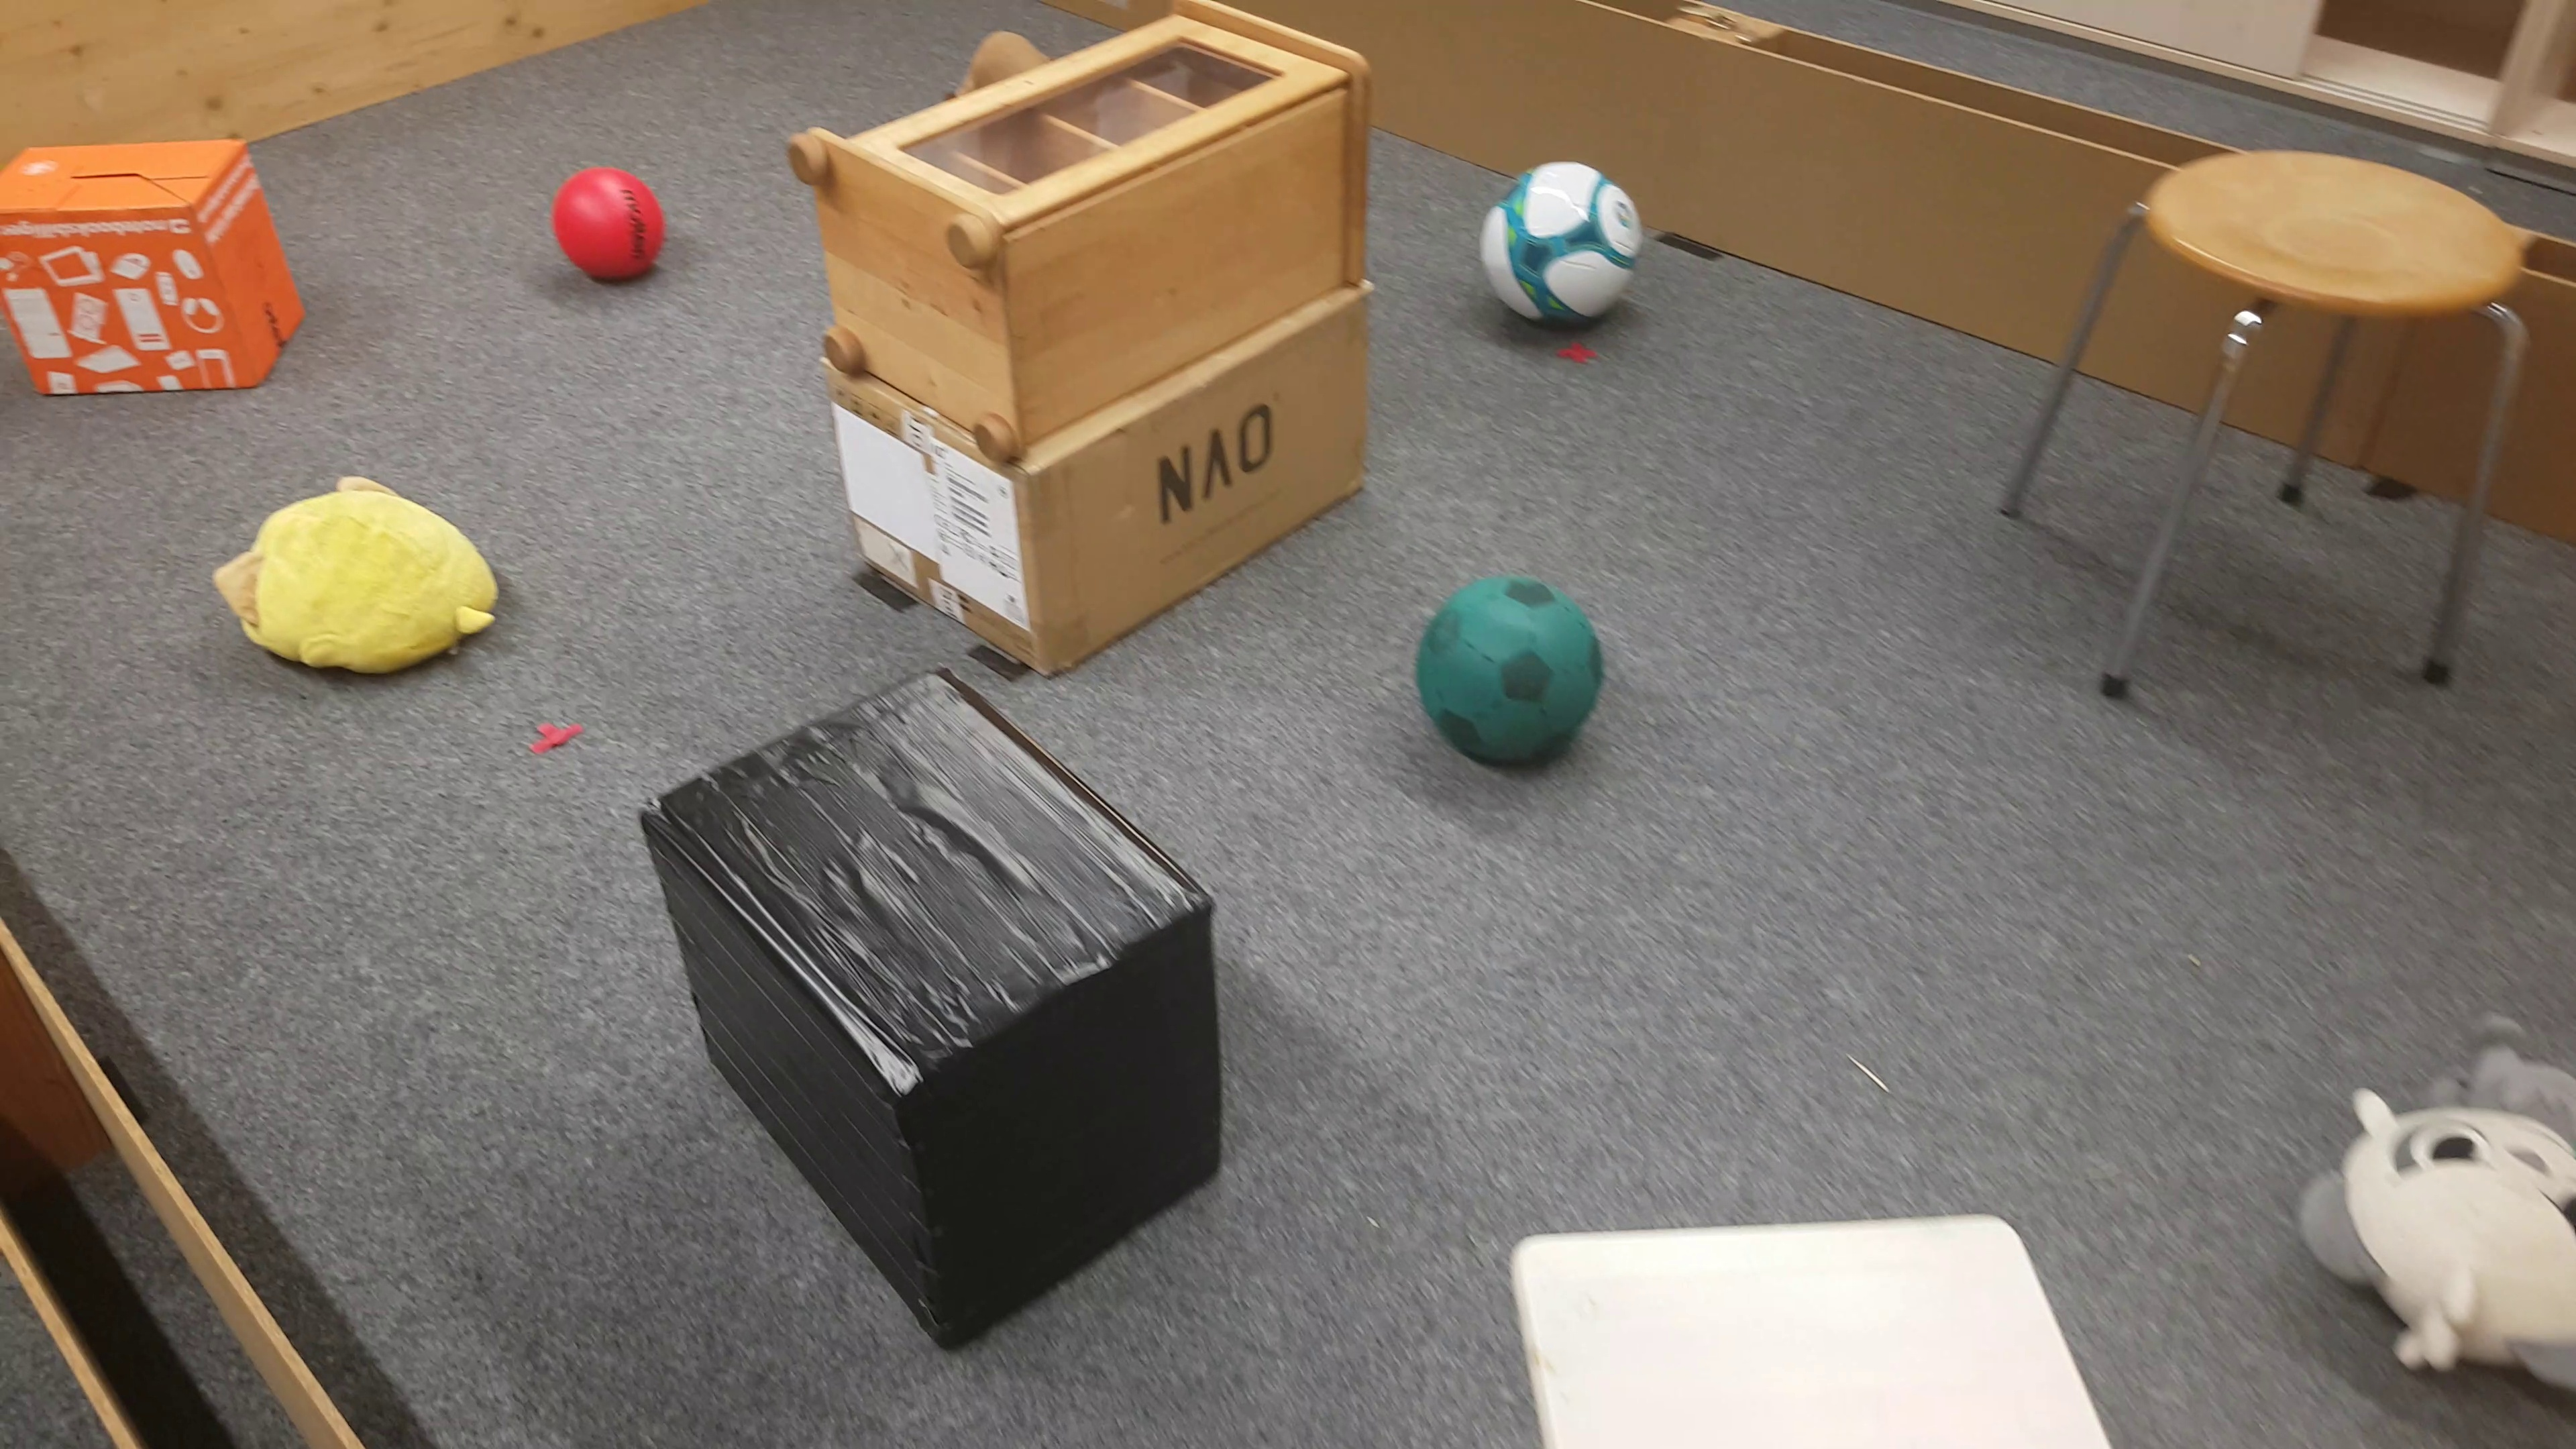grasp: (2289, 1012, 2576, 1389), (216, 464, 497, 695)
kick: (1408, 575, 1614, 768), (1486, 161, 1644, 336), (554, 161, 674, 290)
push: (646, 671, 1228, 1353), (0, 145, 308, 400)
